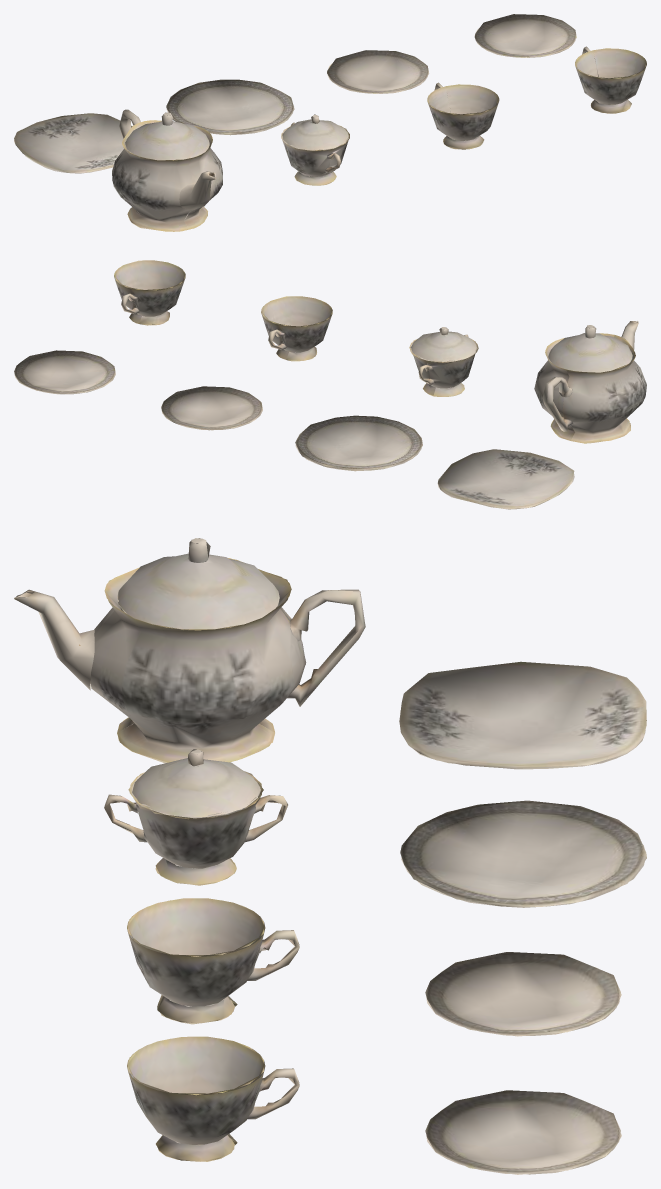
The model's file is isl_teaset.glb.
3 renders of one model, top to bottom at view 1: azimuth 30°, elevation 25°; view 2: azimuth 150°, elevation 25°; view 3: azimuth 270°, elevation 25°, orthographic. The views are drawn at different scales.
Visible parts, largest first — view 1: tea_set_01_plate_large_square_01; view 2: tea_set_01_plate_large_square_01; view 3: tea_set_01_plate_large_square_01.
Part boxes in pixels (x1,y1,x2,y2): tea_set_01_plate_large_square_01: (14, 14, 646, 231); tea_set_01_plate_large_square_01: (14, 260, 646, 509); tea_set_01_plate_large_square_01: (14, 538, 646, 1174).
Size of the model in its own units: 0.9191 by 0.1645 by 0.4833.
1 material, 1 textured.
